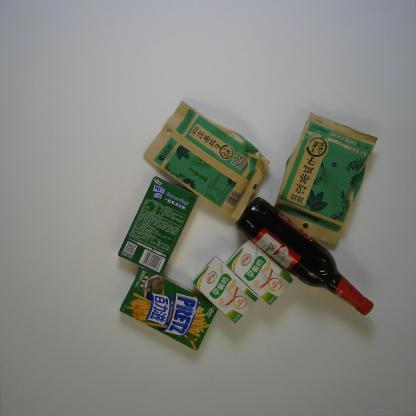Alcohol: (234, 196, 375, 317)
Dessert: (119, 266, 218, 352), (117, 175, 200, 276)
Dried Food: (142, 99, 271, 222), (273, 110, 379, 248)
Milk: (191, 254, 260, 325), (225, 237, 294, 307)
